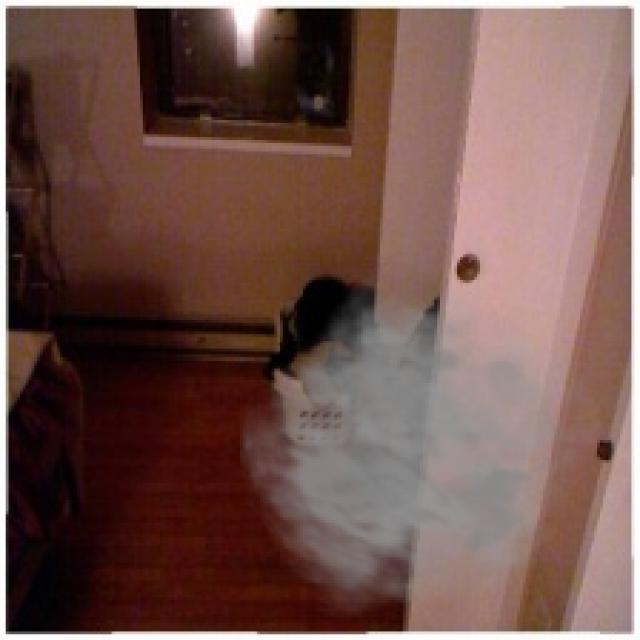smoke: (237, 269, 609, 617)
